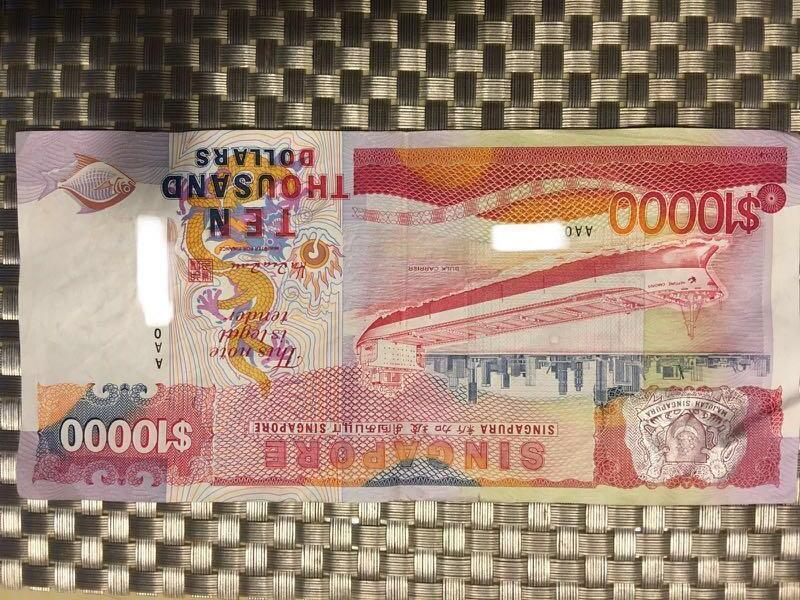10000SingaporeDollar: (22, 134, 796, 498)
